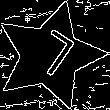L_SW: (22, 26, 78, 85)
